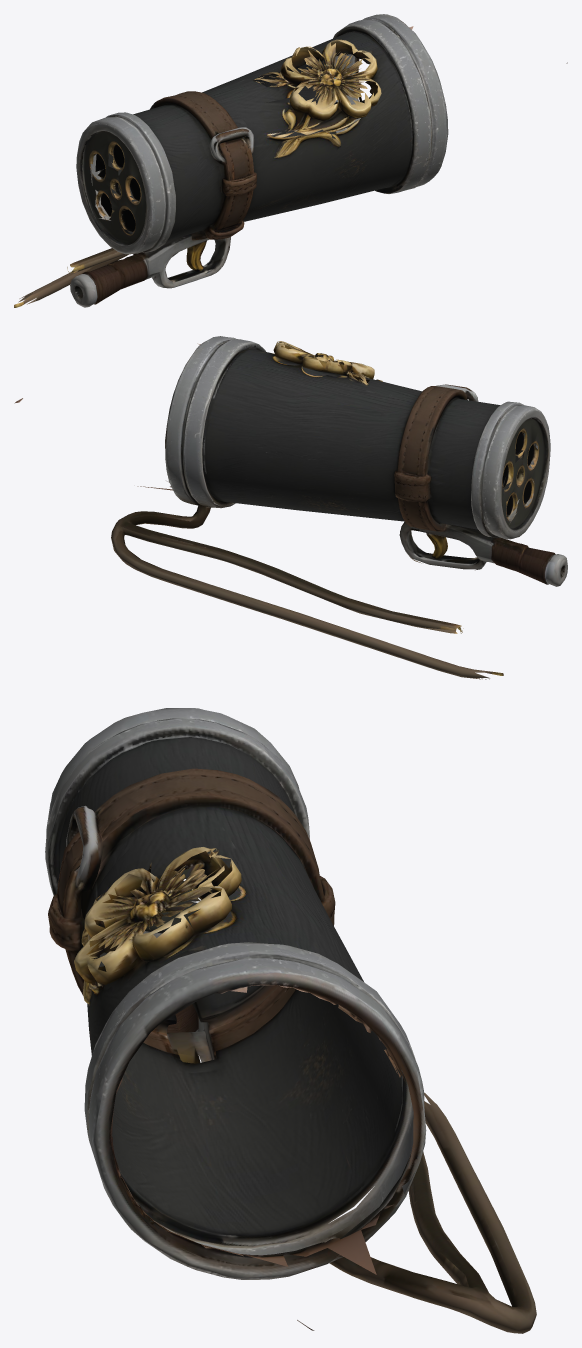
File: meihua.glb
The picture shows the model from 3 angles, top to bottom: view 1: azimuth 30°, elevation 25°; view 2: azimuth 150°, elevation 25°; view 3: azimuth 270°, elevation 25°; orthographic projection. The views are drawn at different scales.
Visible parts, largest first — view 1: convert; view 2: convert; view 3: convert.
Part boxes in pixels (left/top/right/bottom): convert: left=14, top=14, right=567, bottom=307; convert: left=14, top=336, right=567, bottom=679; convert: left=45, top=708, right=536, bottom=1333.
Size of the model in its own units: 1.06 by 0.4615 by 0.44.
1 material, 1 textured.
